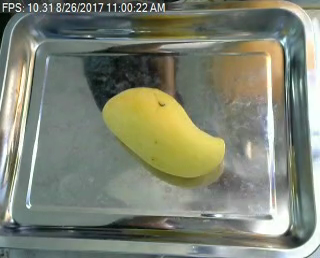Mango: (102, 87, 229, 181)
